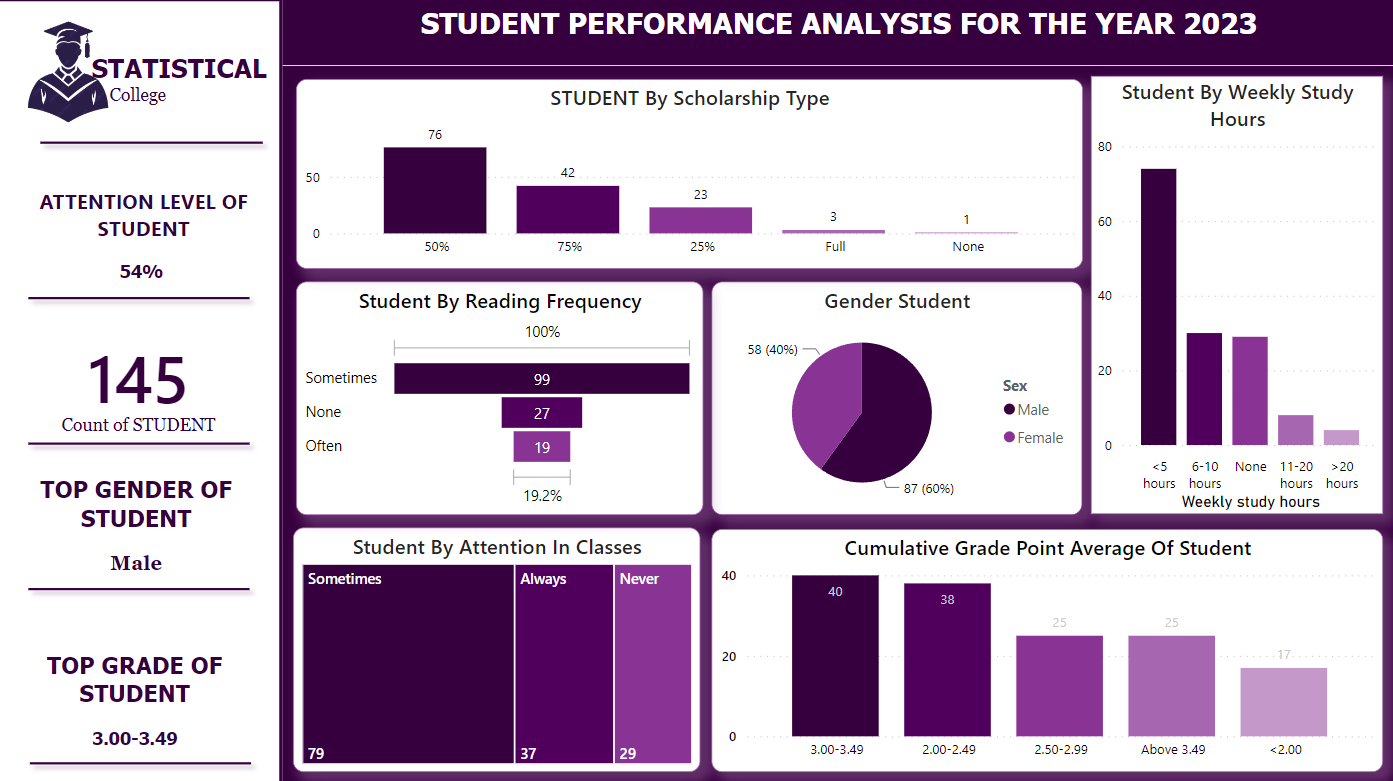

Layout of this report page (visuals, bound fields, positions):
{"tool":"powerbi","page":{"name":"Page 1","canvas":[1280,720],"ordinal":0},"visuals":[{"type":"textbox","box":[258.9,0,1020.6,62.1],"z":0},{"type":"pieChart","title":"Gender Student","fields":{"Category":["StudentsPerformance_with_headers.Sex"],"Y":["CountNonNull(StudentsPerformance_with_headers.STUDENT ID)"]},"box":[653.3,258.3,338.3,213.3],"z":1000},{"type":"shape","box":[0,0,261.7,720],"z":2000},{"type":"treemap","title":"Student By Attention In Classes","fields":{"Group":["StudentsPerformance_with_headers.Listening in classes"],"Values":["CountNonNull(StudentsPerformance_with_headers.STUDENT ID)"]},"box":[271.7,483.3,371.7,223.3],"z":3000},{"type":"clusteredColumnChart","title":" Cumulative Grade Point Average Of Student","fields":{"Category":["StudentsPerformance_with_headers.Cumulative grade point average in the last semester (/4.00)"],"Y":["CountNonNull(StudentsPerformance_with_headers.STUDENT ID)"]},"box":[653.3,485,613.3,221.7],"z":4000},{"type":"image","box":[0,0,131.7,135],"z":5000},{"type":"textbox","box":[81.7,43.3,190,48.3],"z":6000},{"type":"textbox","box":[98.4,74.2,127.2,34.8],"z":7000},{"type":"funnel","title":"Student By Reading Frequency","fields":{"Category":["StudentsPerformance_with_headers.Reading frequency"],"Y":["CountNonNull(StudentsPerformance_with_headers.STUDENT ID)"]},"box":[273.3,258.3,371.7,213.3],"z":8000},{"type":"card","fields":{"Values":["Count(StudentsPerformance_with_headers.STUDENT ID)"]},"box":[1.7,273.3,256.7,156.7],"z":9000},{"type":"shape","box":[20,380,220,55],"z":10000},{"type":"shape","box":[20,511.7,220,55],"z":11000},{"type":"shape","box":[21.7,678.3,220,41.7],"z":12000},{"type":"shape","box":[20,246.7,220,55],"z":13000},{"type":"shape","box":[31.8,104.5,221.1,56],"z":14000},{"type":"clusteredColumnChart","title":"STUDENT By Scholarship Type","fields":{"Category":["StudentsPerformance_with_headers.Scholarship type"],"Y":["CountNonNull(StudentsPerformance_with_headers.STUDENT)"]},"box":[273.3,73.3,718.3,173.3],"z":15000},{"type":"columnChart","title":"Student By Weekly Study Hours","fields":{"Category":["StudentsPerformance_with_headers.Weekly study hours"],"Y":["CountNonNull(StudentsPerformance_with_headers.STUDENT)"]},"box":[1000,71.7,266.7,400],"z":16000},{"type":"textbox","box":[1.7,430,253.3,110],"z":17000},{"type":"textbox","box":[0,590,253.3,110],"z":18000},{"type":"textbox","box":[8.3,166.7,253.3,110],"z":19000}]}

Visuals, with their boxes in screenshot pixels (x1, y1, x2, y2), scaled from the page's 1280x720 canvas onto the 1393x781 screenshot:
textbox: box(282, 0, 1392, 67)
"Gender Student" pieChart: box(711, 280, 1079, 512)
shape: box(0, 0, 285, 780)
"Student By Attention In Classes" treemap: box(296, 524, 700, 766)
" Cumulative Grade Point Average Of Student" clusteredColumnChart: box(711, 526, 1378, 767)
image: box(0, 0, 143, 146)
textbox: box(89, 47, 296, 99)
textbox: box(107, 80, 246, 118)
"Student By Reading Frequency" funnel: box(297, 280, 702, 512)
card - Count(StudentsPerformance_with_headers.STUDENT ID): box(2, 296, 281, 466)
shape: box(22, 412, 261, 472)
shape: box(22, 555, 261, 615)
shape: box(24, 736, 263, 780)
shape: box(22, 268, 261, 327)
shape: box(35, 113, 275, 174)
"STUDENT By Scholarship Type" clusteredColumnChart: box(297, 80, 1079, 267)
"Student By Weekly Study Hours" columnChart: box(1088, 78, 1379, 512)
textbox: box(2, 466, 278, 586)
textbox: box(0, 640, 276, 759)
textbox: box(9, 181, 285, 300)
